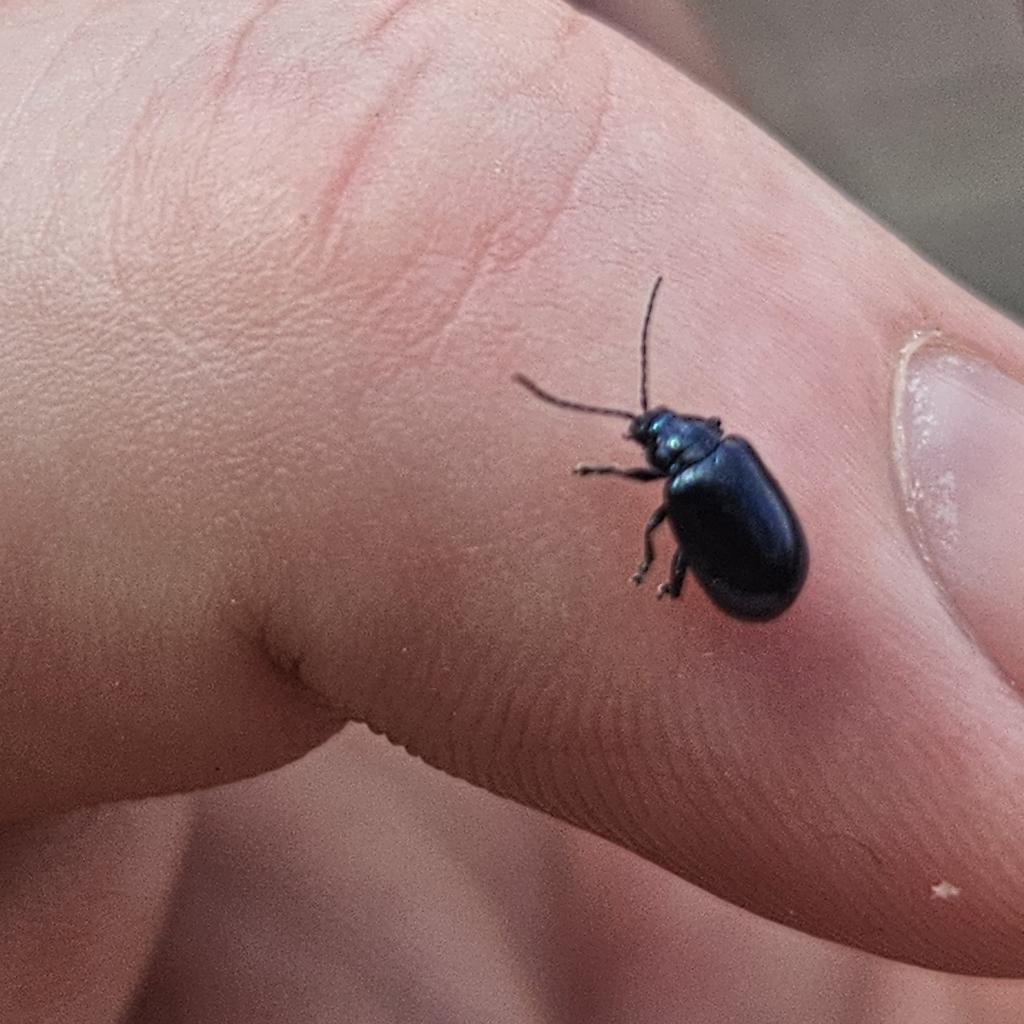flea_beetle: (455, 243, 889, 684)
